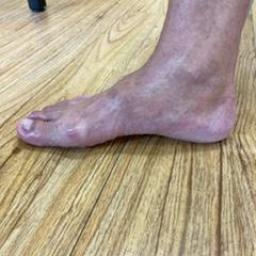Medial View -Right Foot-: (4, 30, 252, 161)
